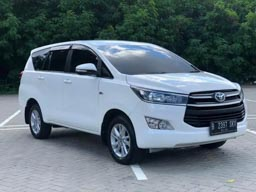plat: (211, 119, 235, 129)
